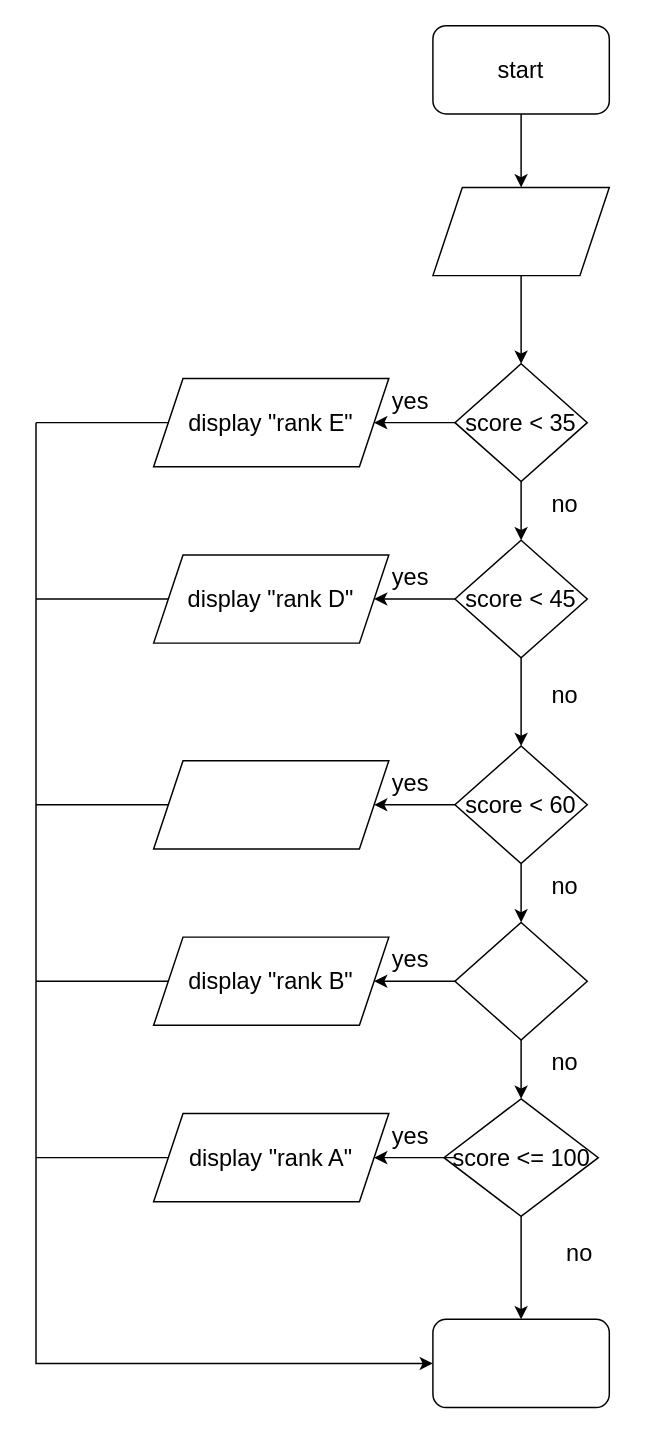
Image size: 650x1433. Some labels were removed from this diagram. Each missing label, with the centre of its shape:
display "rank C": point (270, 804)
end: point (520, 1363)
input score: point (520, 231)
score < 75: point (520, 980)
